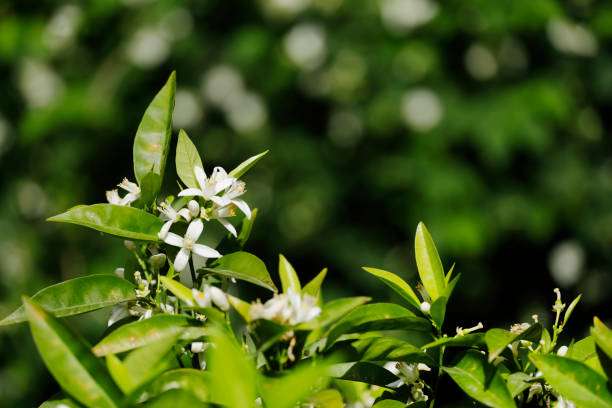flower: (156, 216, 222, 269), (176, 165, 233, 206), (212, 174, 253, 220), (151, 196, 194, 238)
